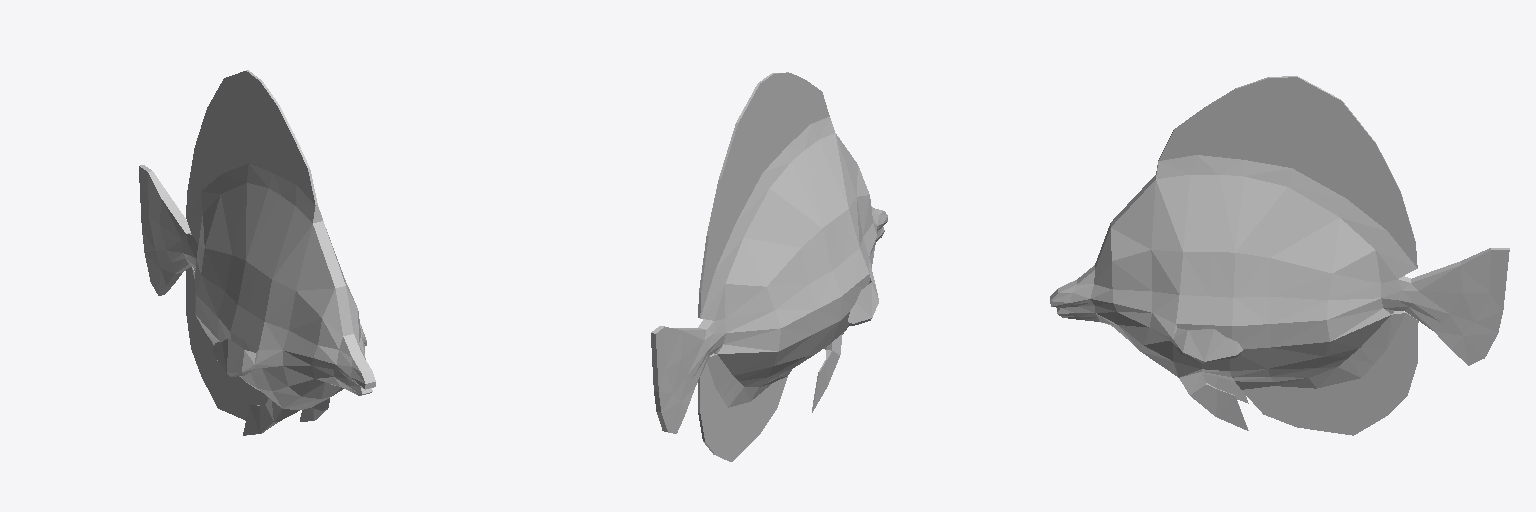
Rendered from TropicalFish05.obj.
3 views of the same model, side by side, from view 1: azimuth 30°, elevation 25°; view 2: azimuth 150°, elevation 25°; view 3: azimuth 270°, elevation 25° (orthographic).
Parts seen in each view (by area): view 1: TropicalFish05:TropicalFish05; view 2: TropicalFish05:TropicalFish05; view 3: TropicalFish05:TropicalFish05.
Part boxes in pixels (x1,y1,x2,y2): TropicalFish05:TropicalFish05: (139, 70, 375, 435); TropicalFish05:TropicalFish05: (651, 72, 887, 461); TropicalFish05:TropicalFish05: (1050, 76, 1509, 435).
Size of the model in its own units: 0.8119 by 2.09 by 2.42.